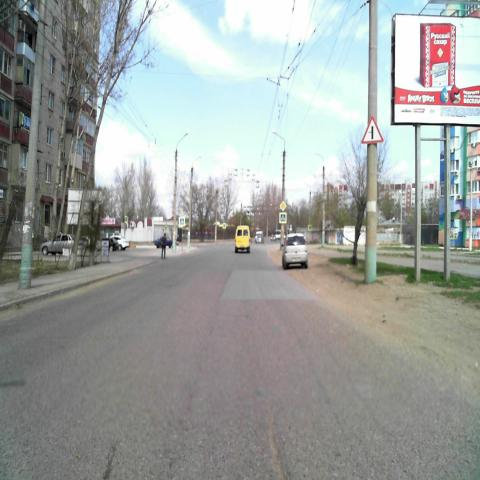2_3_3: (362, 116, 384, 144)
